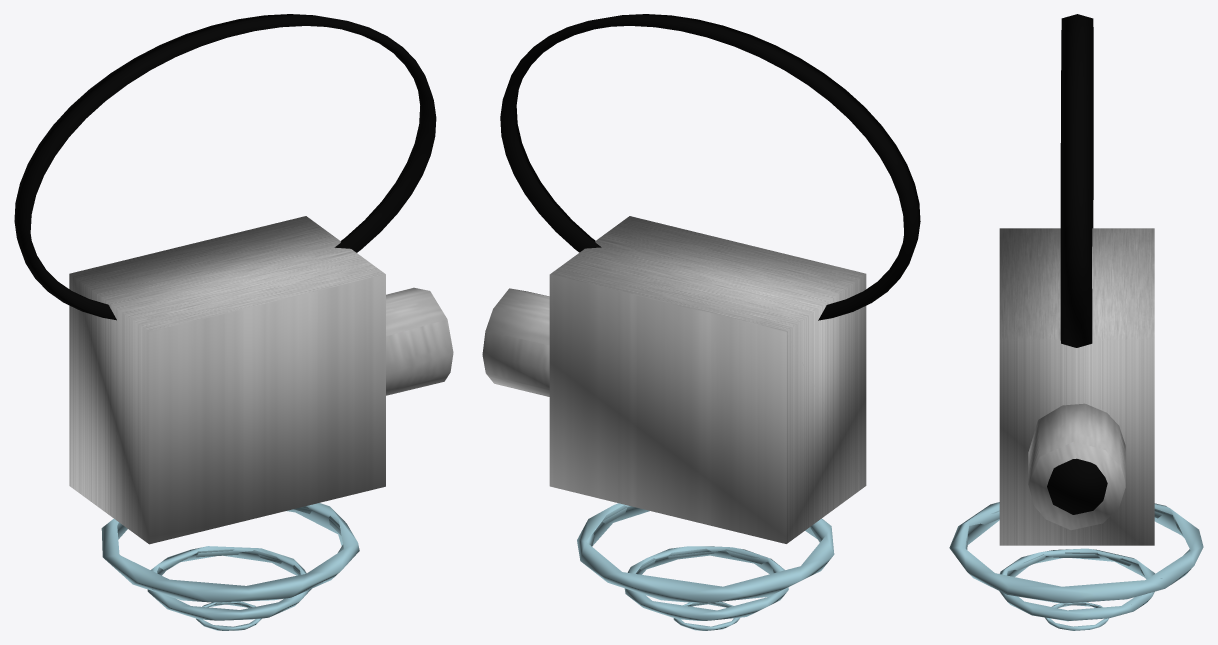
The model's file is projecter.dae.
The picture shows the model from 3 angles, left to right: view 1: azimuth 30°, elevation 25°; view 2: azimuth 150°, elevation 25°; view 3: azimuth 270°, elevation 25°; orthographic projection. The views are drawn at different scales.
Visible parts, largest first — view 1: Cube; view 2: Cube; view 3: Cube.
Part boxes in pixels (x1,y1,x2,y2): Cube: (14,14,453,630); Cube: (482,14,920,630); Cube: (949,14,1203,630).
Size of the model in its own units: 0.2324 by 0.1269 by 0.3163.
Materials: 1 (1 with a texture image).
